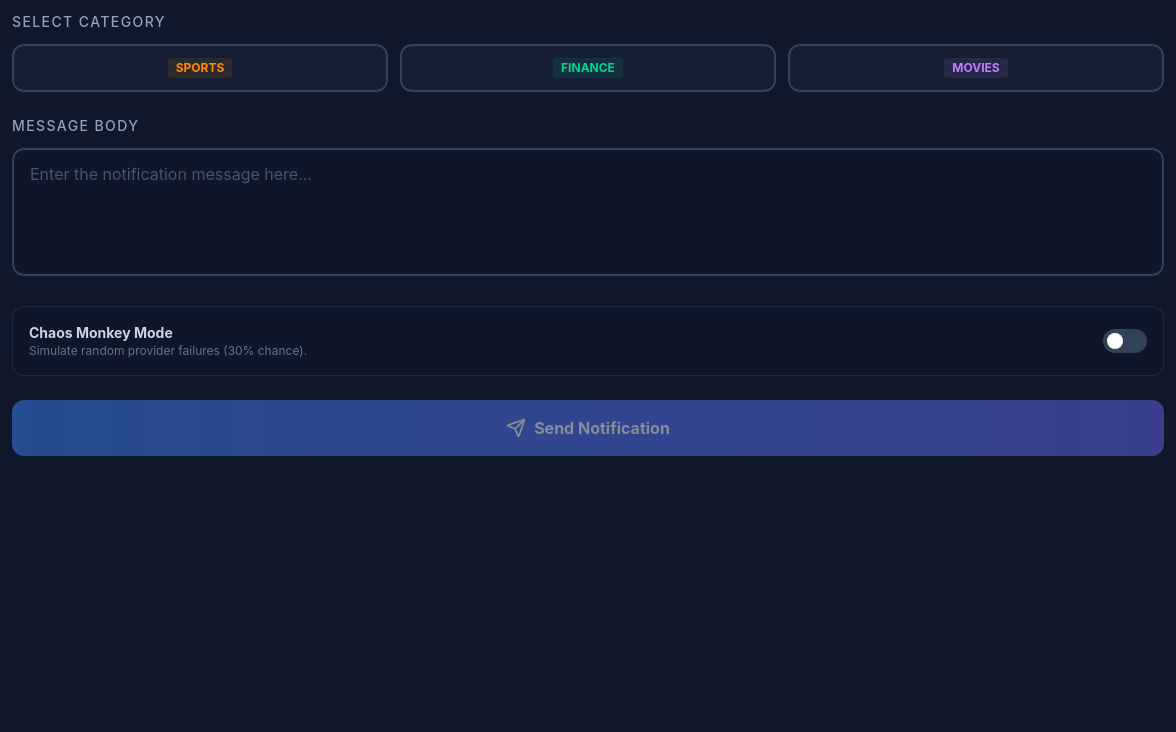
Scenario: NotificationForm › shows error message on API failure
Expected: the text "Finance" is shown, [553,58,623,78]
Step 1. Click the button "Finance" → {"x": 588, "y": 68}, box [400,44,776,92]
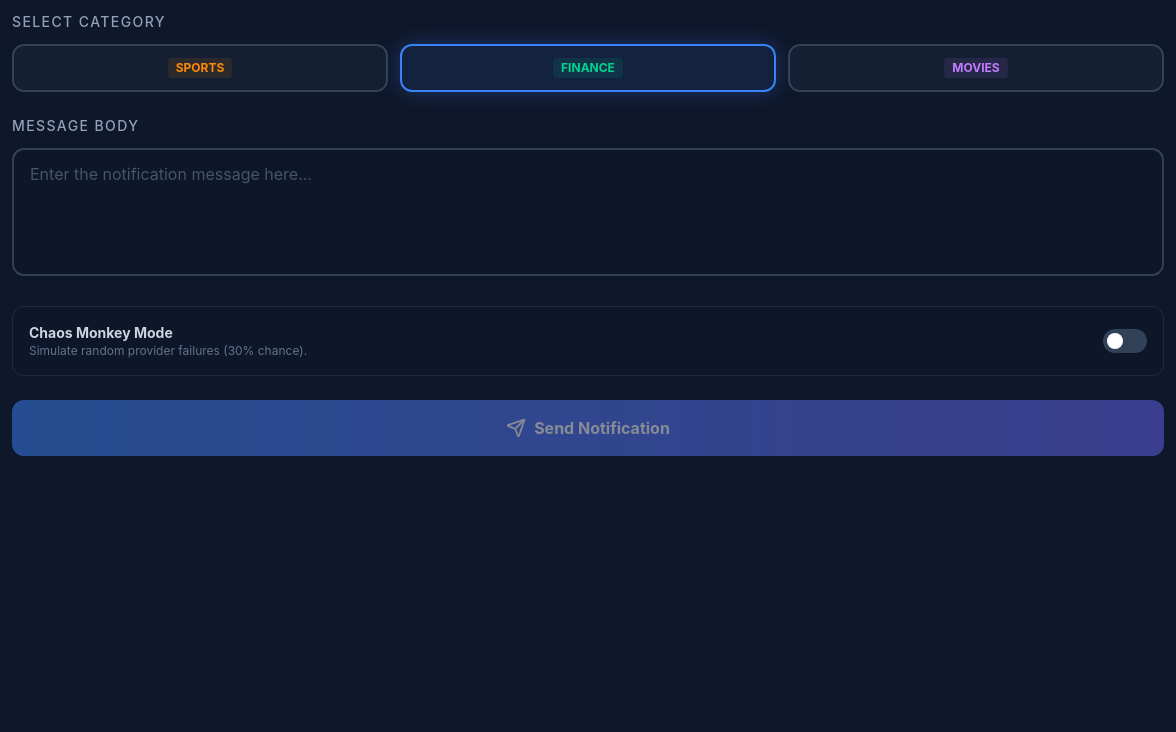
Step 2. Type "Error Test" into the text box with placeholder "Enter the notification message here..." → {"x": 588, "y": 212}, box [12,148,1164,276]
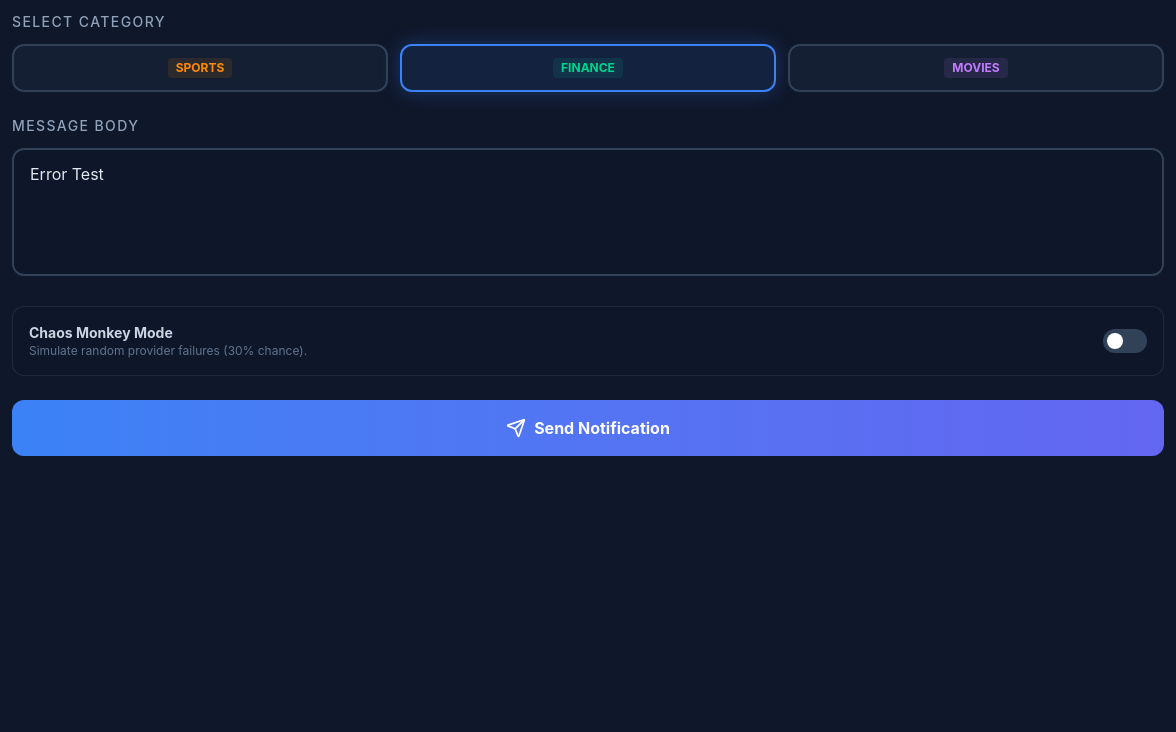
Step 3. Click the button "Send Notification" → {"x": 588, "y": 428}, box [12,400,1164,456]
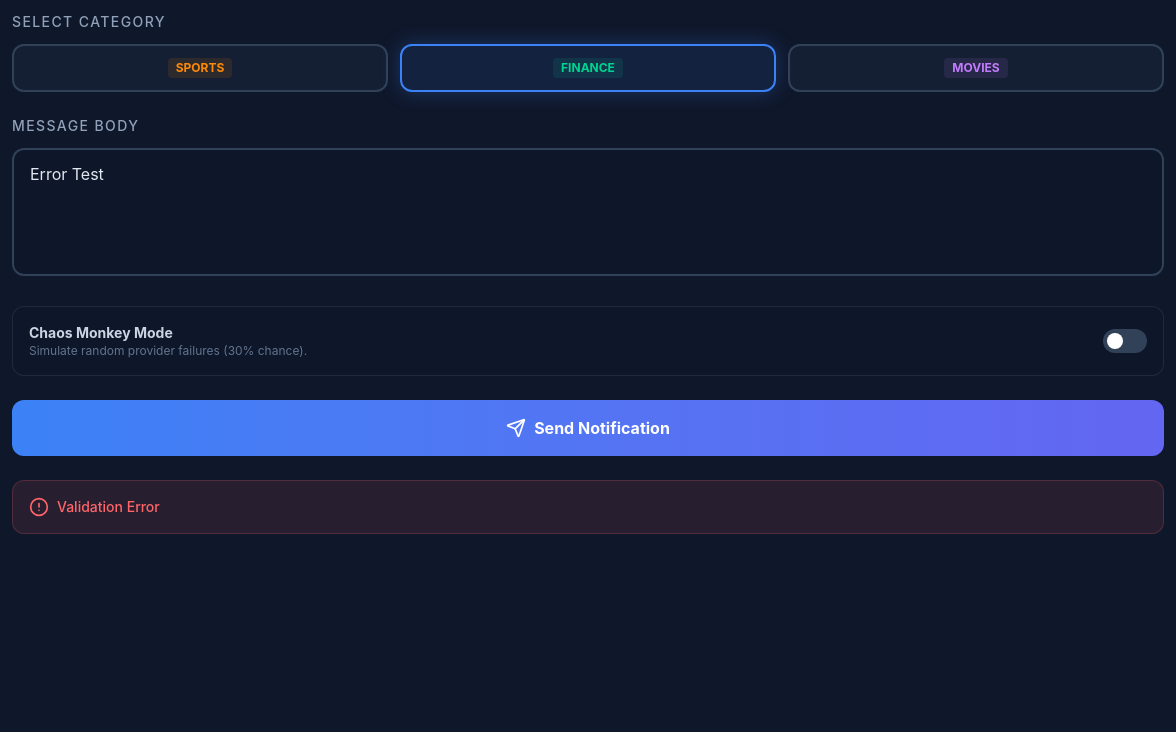
Expected: the text "Validation Error" is shown, [57,497,160,517]
